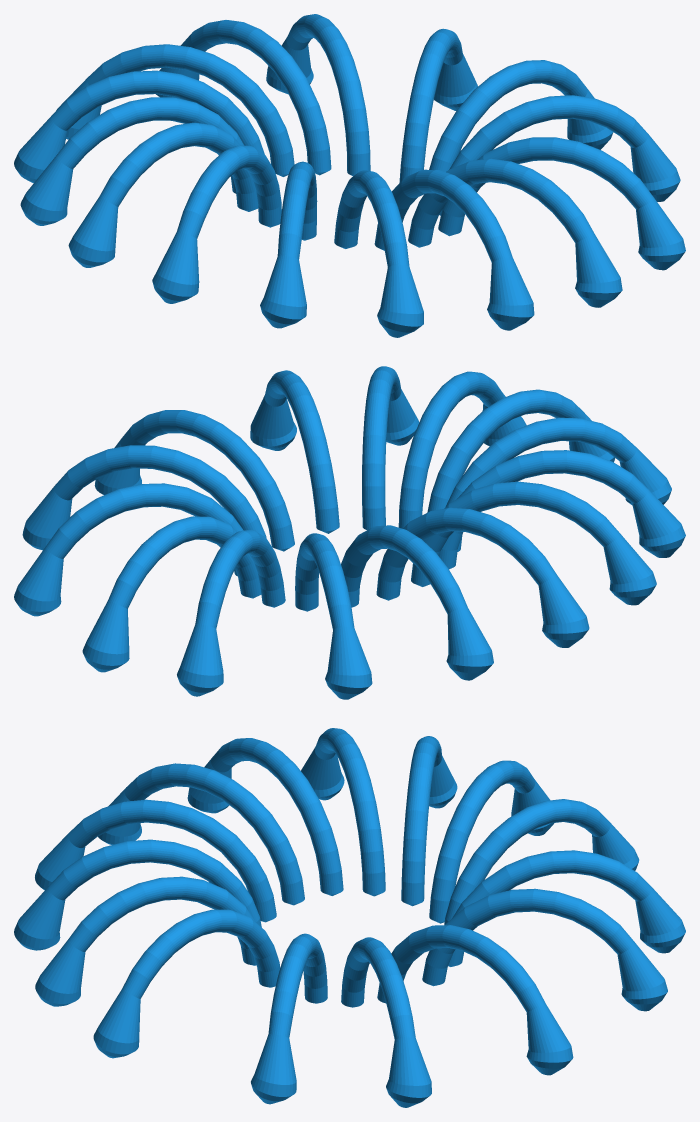
Rendered from uploads_files_3138814_Under+Water+Plants-leaf.fbx.
3 views of the same model, one above another, from view 1: azimuth 30°, elevation 25°; view 2: azimuth 150°, elevation 25°; view 3: azimuth 270°, elevation 25° (orthographic). The views are drawn at different scales.
Visible parts, largest first — view 1: Leaf; view 2: Leaf; view 3: Leaf.
Boxes of the visible parts, <box> form: Leaf: <box>14,14,685,337</box>; Leaf: <box>14,366,685,699</box>; Leaf: <box>14,728,685,1107</box>.
Bounding box in the file's own units: 762 × 192 × 775.
